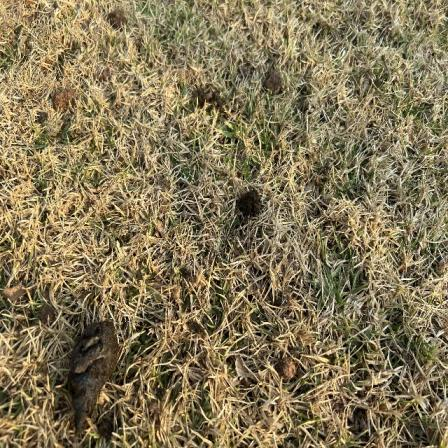dog-poop: (57, 302, 127, 437)
